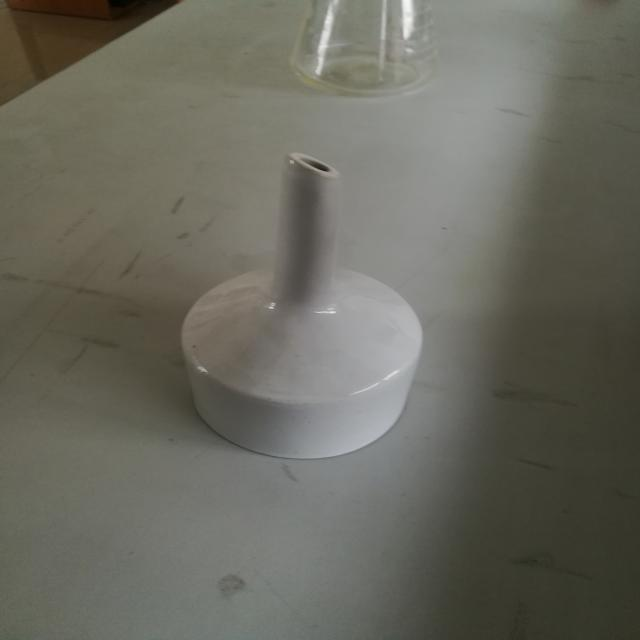Buchner_Funnel: (153, 117, 451, 478)
